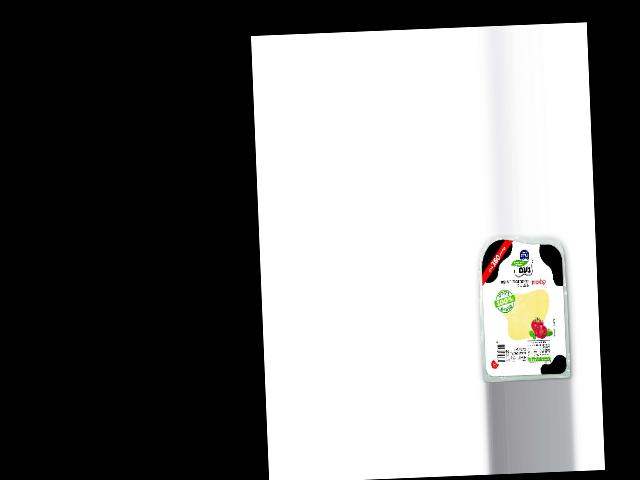cheese: (476, 232, 571, 382)
